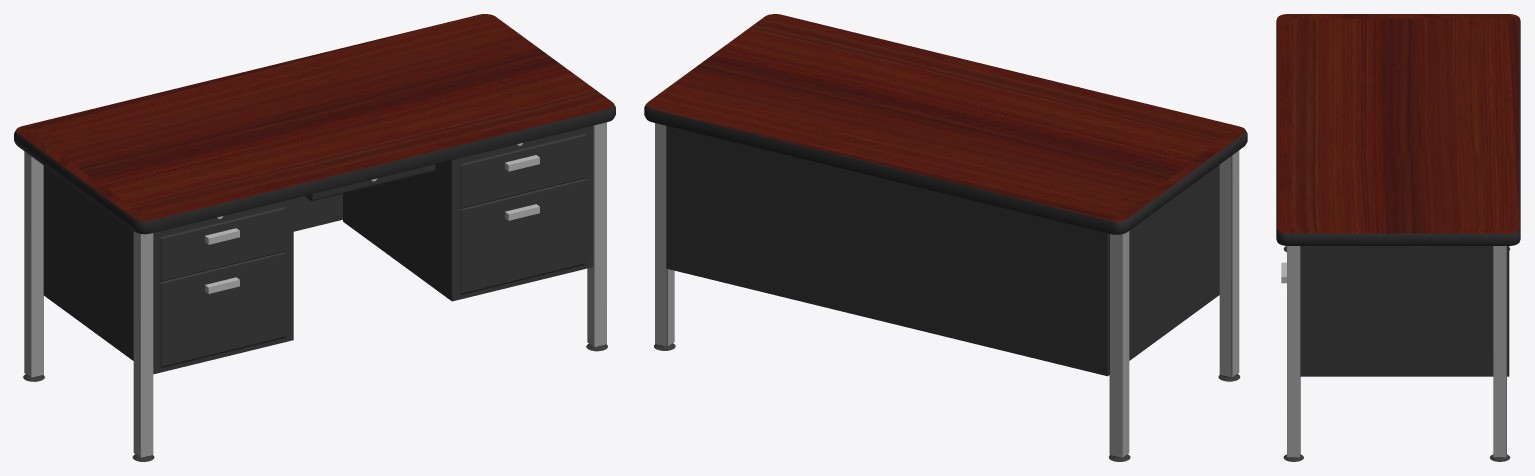
The model's file is teachers_desk.glb.
3 renders of one model, left to right at view 1: azimuth 30°, elevation 25°; view 2: azimuth 150°, elevation 25°; view 3: azimuth 270°, elevation 25°, orthographic. The views are drawn at different scales.
Parts seen in each view (by area): view 1: Teacher Desk; view 2: Teacher Desk; view 3: Teacher Desk.
Part boxes in pixels (<box>): Teacher Desk: <box>14,14,615,461</box>; Teacher Desk: <box>644,14,1247,461</box>; Teacher Desk: <box>1276,14,1520,461</box>.
Size of the model in its own units: 1.9 by 0.9203 by 0.8877.
Materials: 6 (1 with a texture image).
